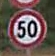limite 50: (6, 9, 48, 48)
